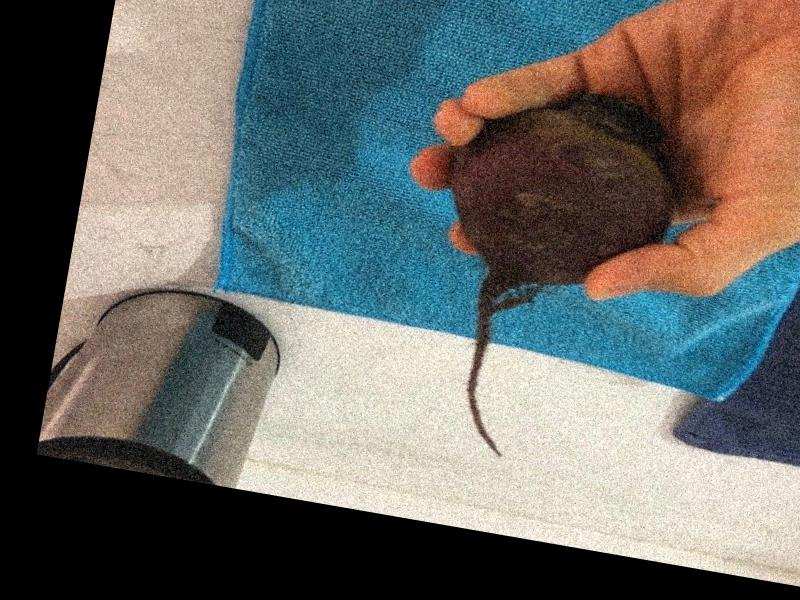Beet: (404, 69, 691, 477)
